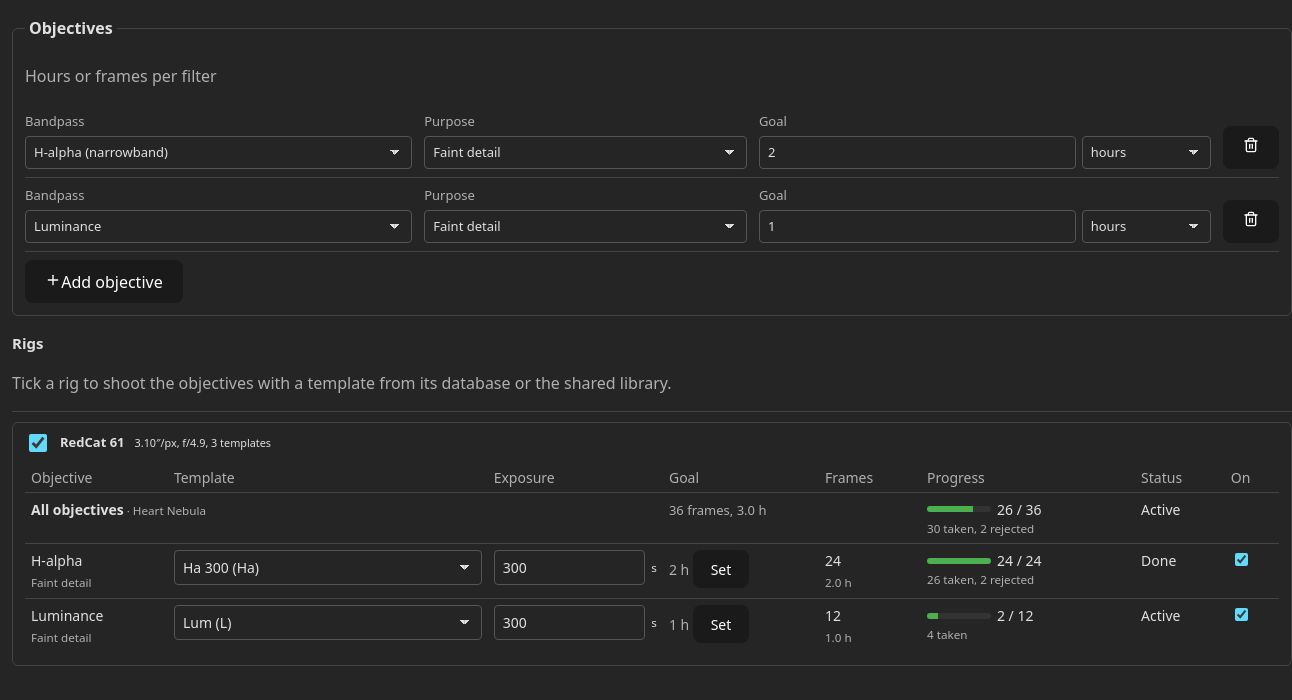
Test case: Plan editor › shows each part's progress and status, and the rig's in a summary row on top
Expected: the row with test id "summary-redcat" shows "36 frames, 3.0 h", [25,492,1279,544]
Expected: the row with test id "summary-redcat" shows "26 / 36", [25,492,1279,544]
Click the checkbox named "RedCat 61 shoots Luminance".
click(1241, 615)  # box [1235,608,1248,621]
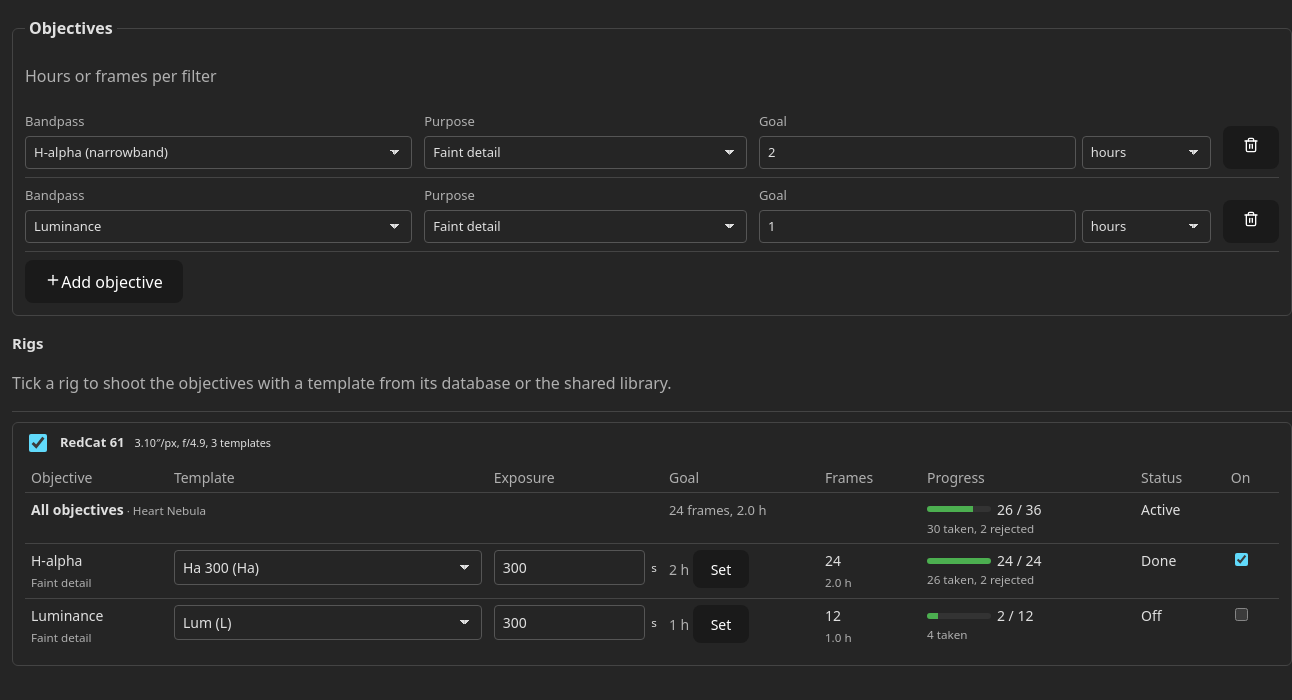
Result: the row that starts with "Luminance" shows "Off" at [1141,606,1162,625]
